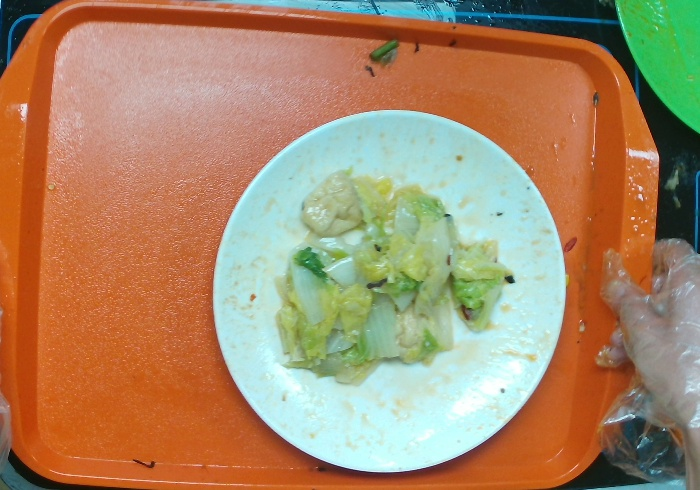HZYJPL-Bai_Se_Yuan_Pan: (191, 95, 577, 485)
